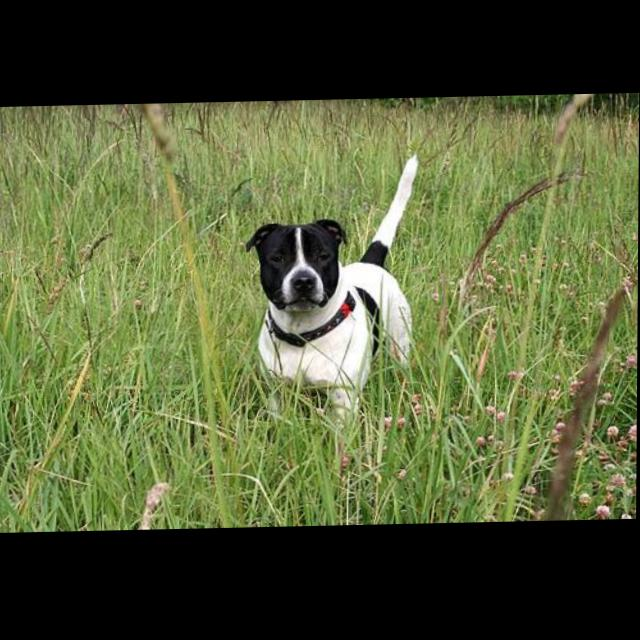amstaff: (244, 156, 420, 472)
